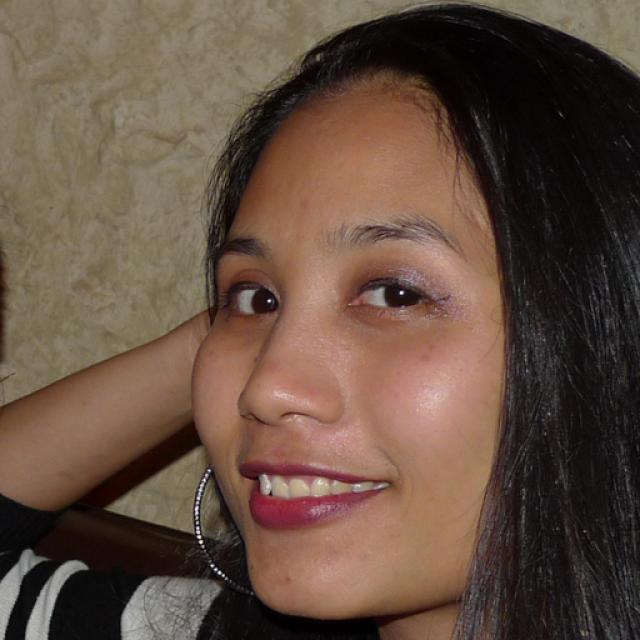happy: (191, 75, 509, 614)
